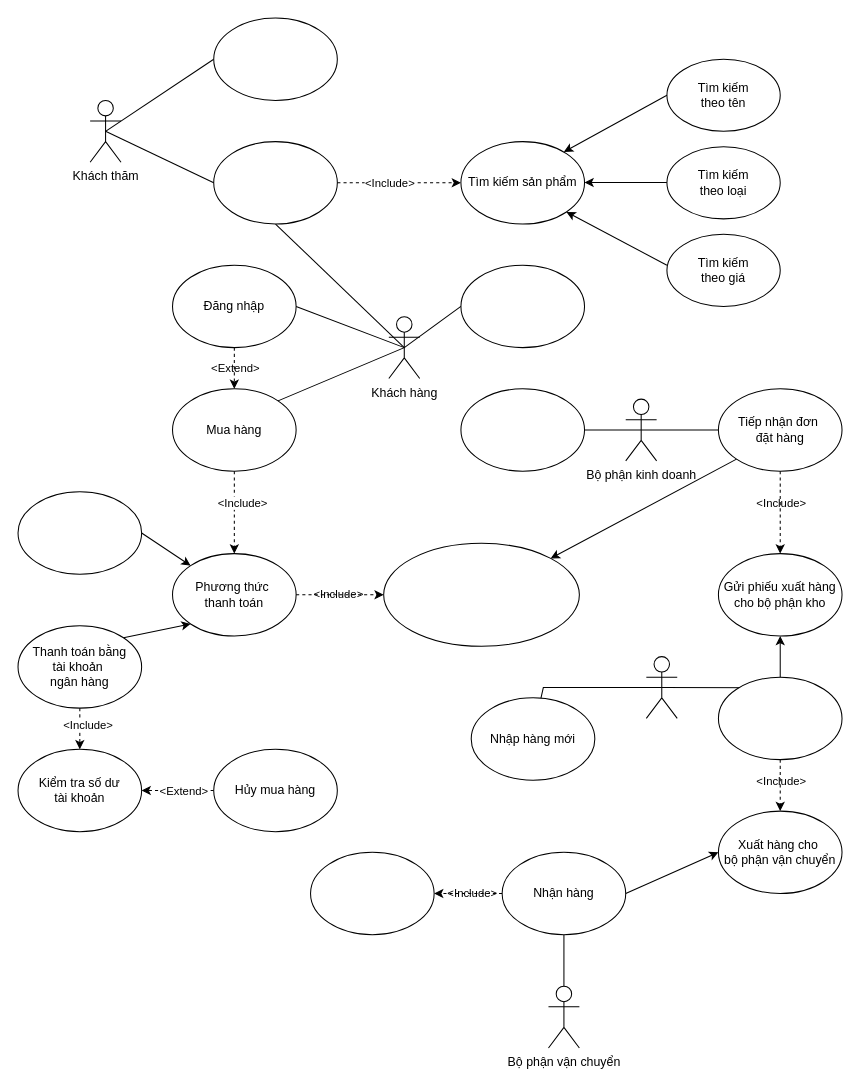
The diagram is 860 pixels wide and 1088 high, and some of its shapes have lost their labels. The shapes that lost their labels are listed below. From the top down, each one's centre as x and y in pixels, then its label:
(x=275, y=58): Đăng ký
(x=275, y=182): Xem sản phẩm
(x=522, y=306): Thêm sản phẩm vào giỏ hàng
(x=522, y=429): Kiểm tra tình trạng đơn hàng
(x=79, y=532): Thanh toán khi nhận hàng
(x=481, y=594): Xác nhận mua hàng thành công - chuyển đơn hàng cho bộ phân kinh doanh
(x=661, y=687): Bộ phận kho
(x=779, y=718): Nhận phiếu xuất hàng
(x=372, y=893): Giao hàng
